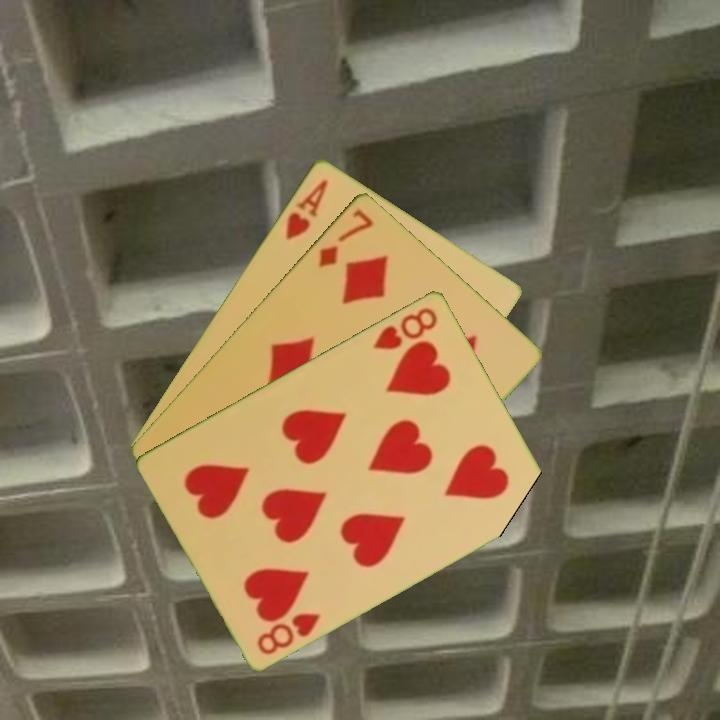7d: (314, 205, 376, 270)
8h: (369, 303, 441, 352), (253, 608, 324, 657)
Ah: (281, 175, 331, 243)
